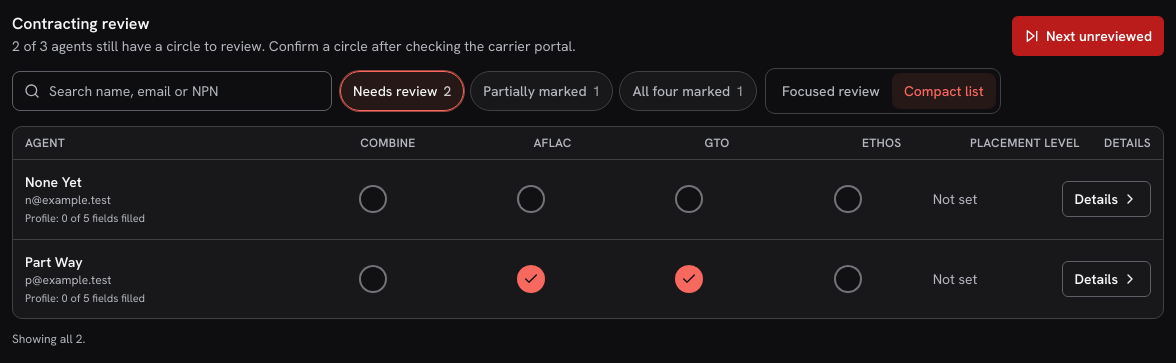
the contracting review: what you see › filter chips show distinct-person counts and each filter lists the right people
Expected: the text "None Yet" is shown, [25,172,82,192]
Expected: the button "Needs review 2" is shown, [340,71,464,111]
Click the button "Partially marked 1": (542, 91) [470,71,613,111]
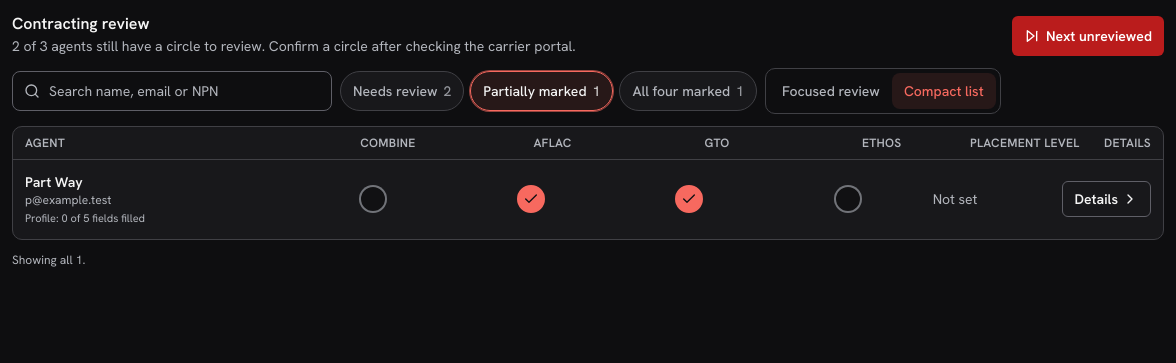
Expected: the text "Part Way" is shown, [25,172,83,192]
Expected: the text "None Yet" is gone
Click the button "All four marked 1": (688, 91) [619,71,757,111]
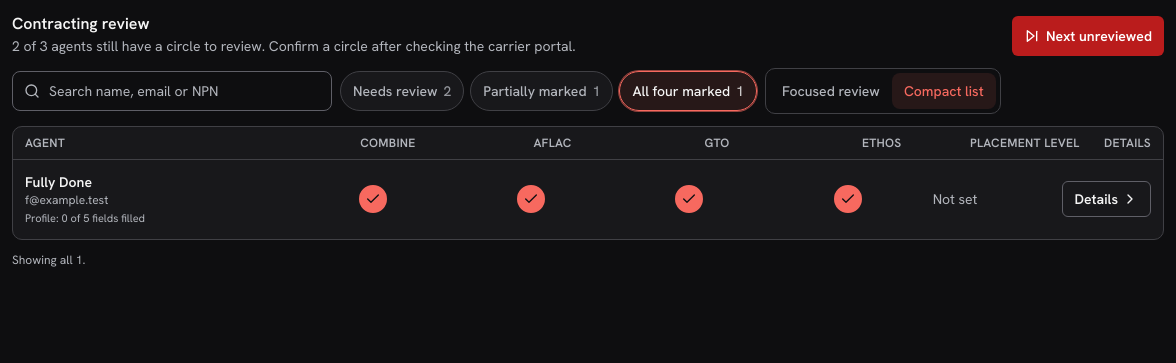
Expected: the text "Fully Done" is shown, [25,172,92,192]
